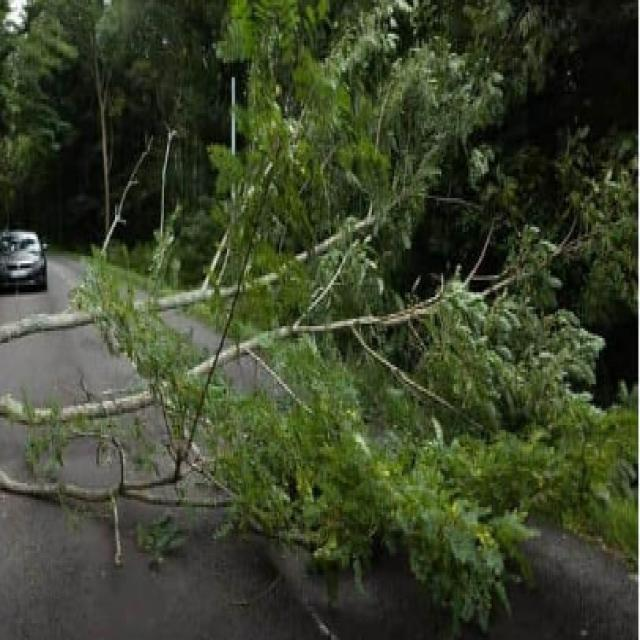fallen_tree: (0, 126, 632, 640)
